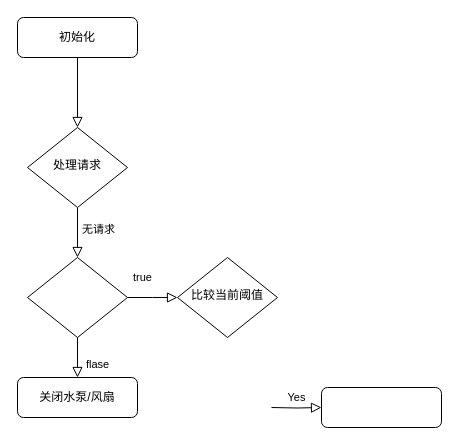
This 459x445 diagram has some shape labels left out. The box of each missing label's shape, as (x1, y1, x2, y2) in pixels:
Replace Bulb: (320, 386, 442, 428)
检查自动模式: (26, 256, 128, 338)
